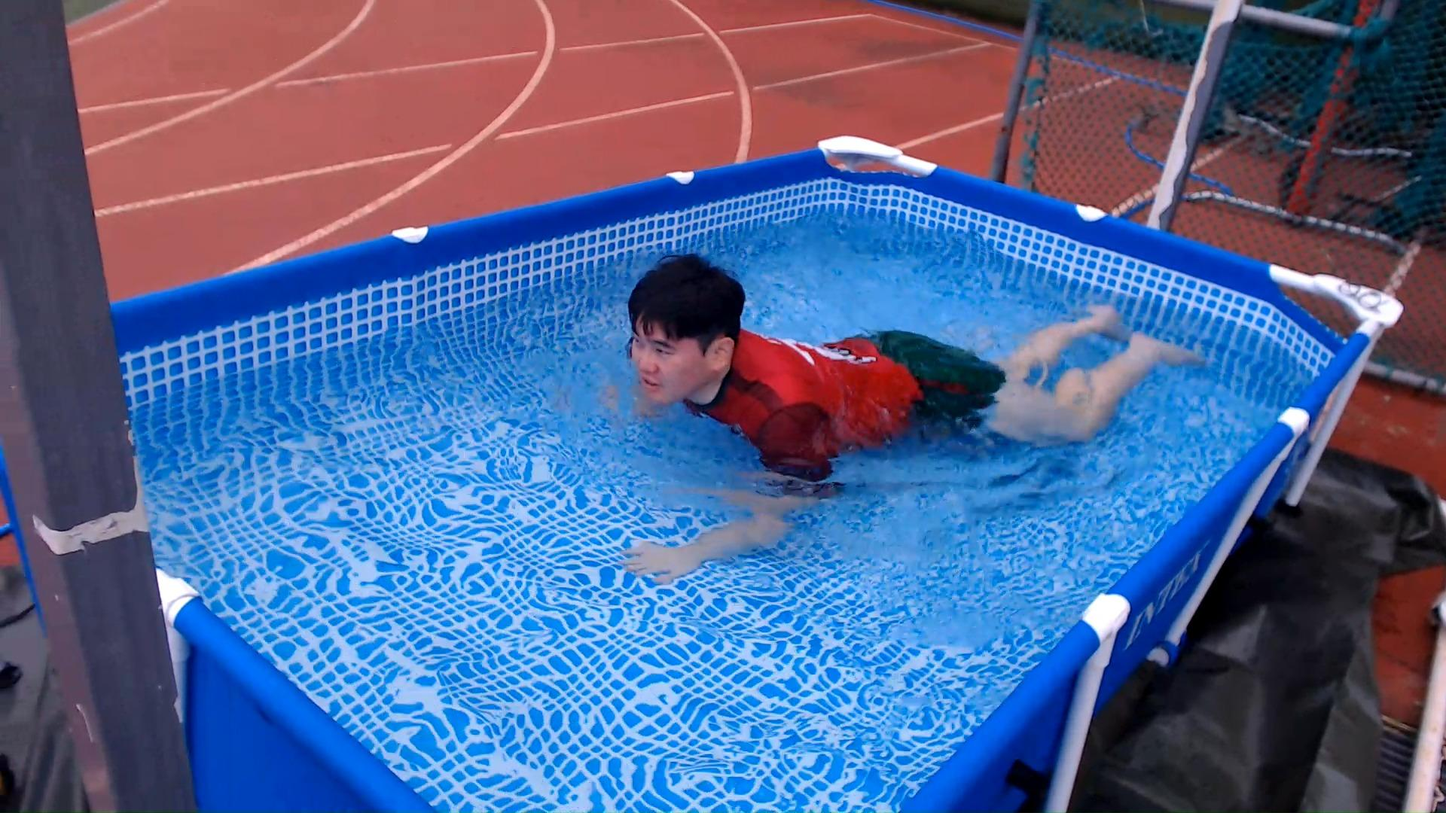Swimming: (532, 193, 1224, 508)
